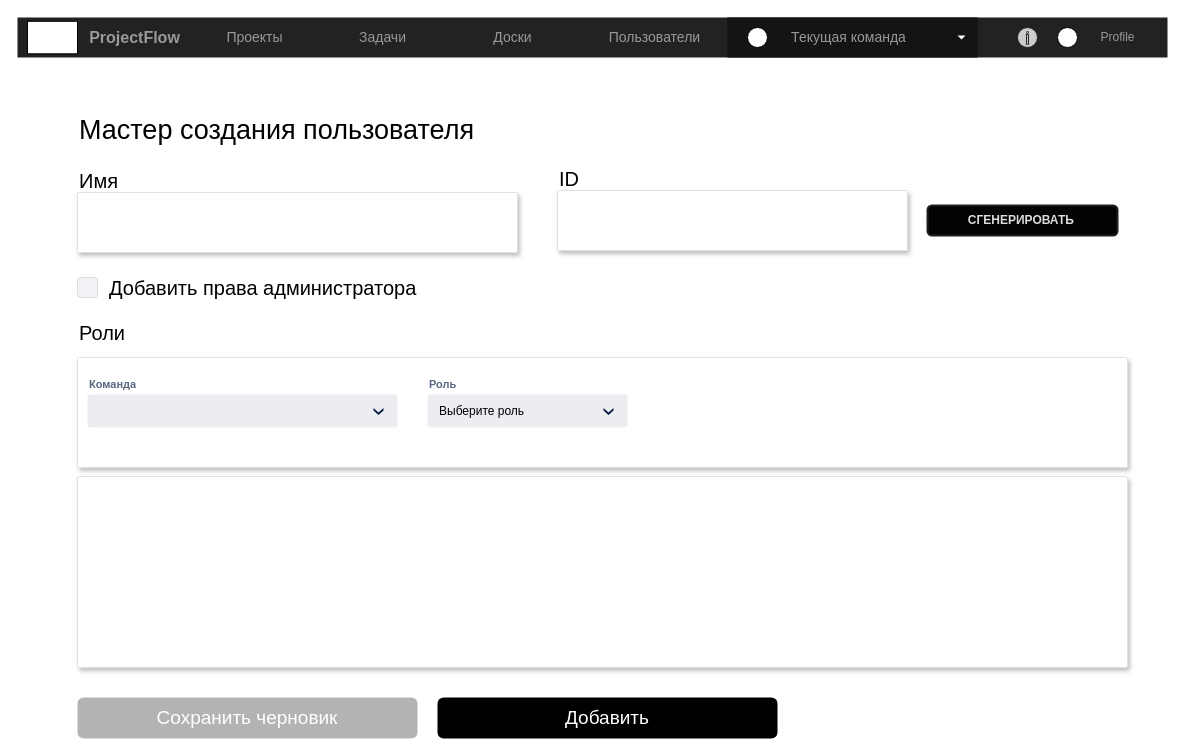
Some shapes in this 1185 by 755 pixel diagram are drawn without their labels. The shapes that lost their labels are listed below. From the top down, each one's centre as x and y in pixels, then its label:
point (52, 37): Logo
point (242, 410): Выберите существующую команду
point (603, 573): Назначенные роли
